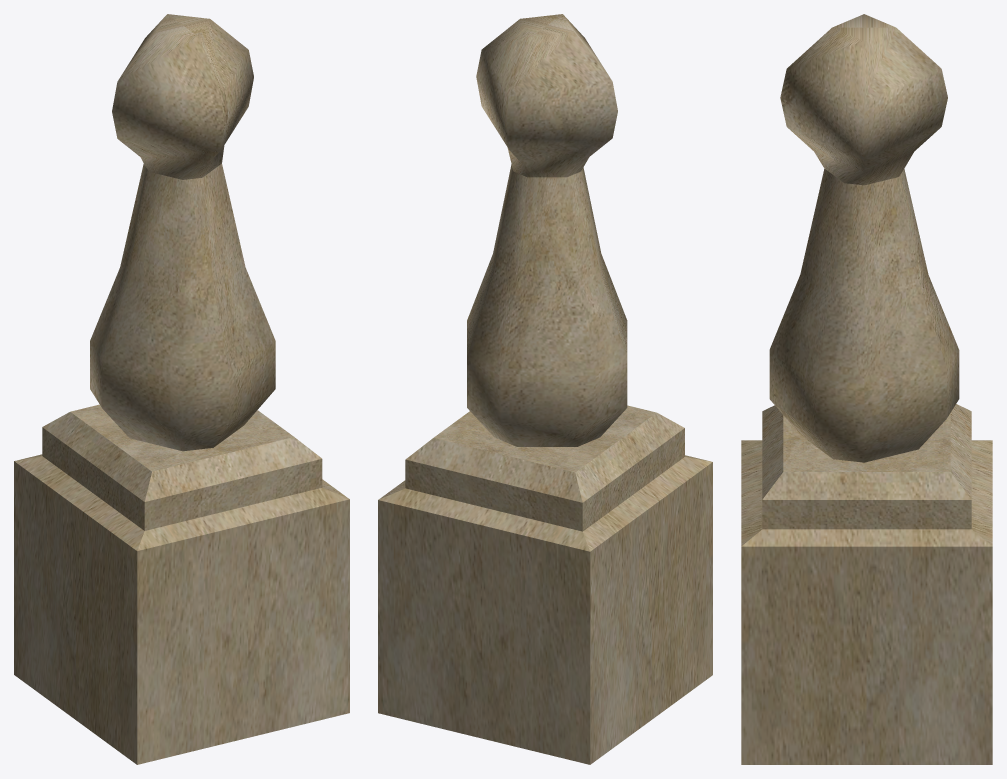
File: thm_nboo_imprv_pillar_s08_l1.fbx
The picture shows the model from 3 angles, left to right: view 1: azimuth 30°, elevation 25°; view 2: azimuth 150°, elevation 25°; view 3: azimuth 270°, elevation 25°; orthographic projection. The views are drawn at different scales.
Visible parts, largest first — view 1: mesh_node; view 2: mesh_node; view 3: mesh_node.
Part boxes in pixels (x1,y1,x2,y2): mesh_node: [14, 14, 349, 764]; mesh_node: [378, 14, 712, 764]; mesh_node: [741, 14, 992, 764].
Bounding box in the file's own units: 0.5982 × 1.8 × 0.5993.
